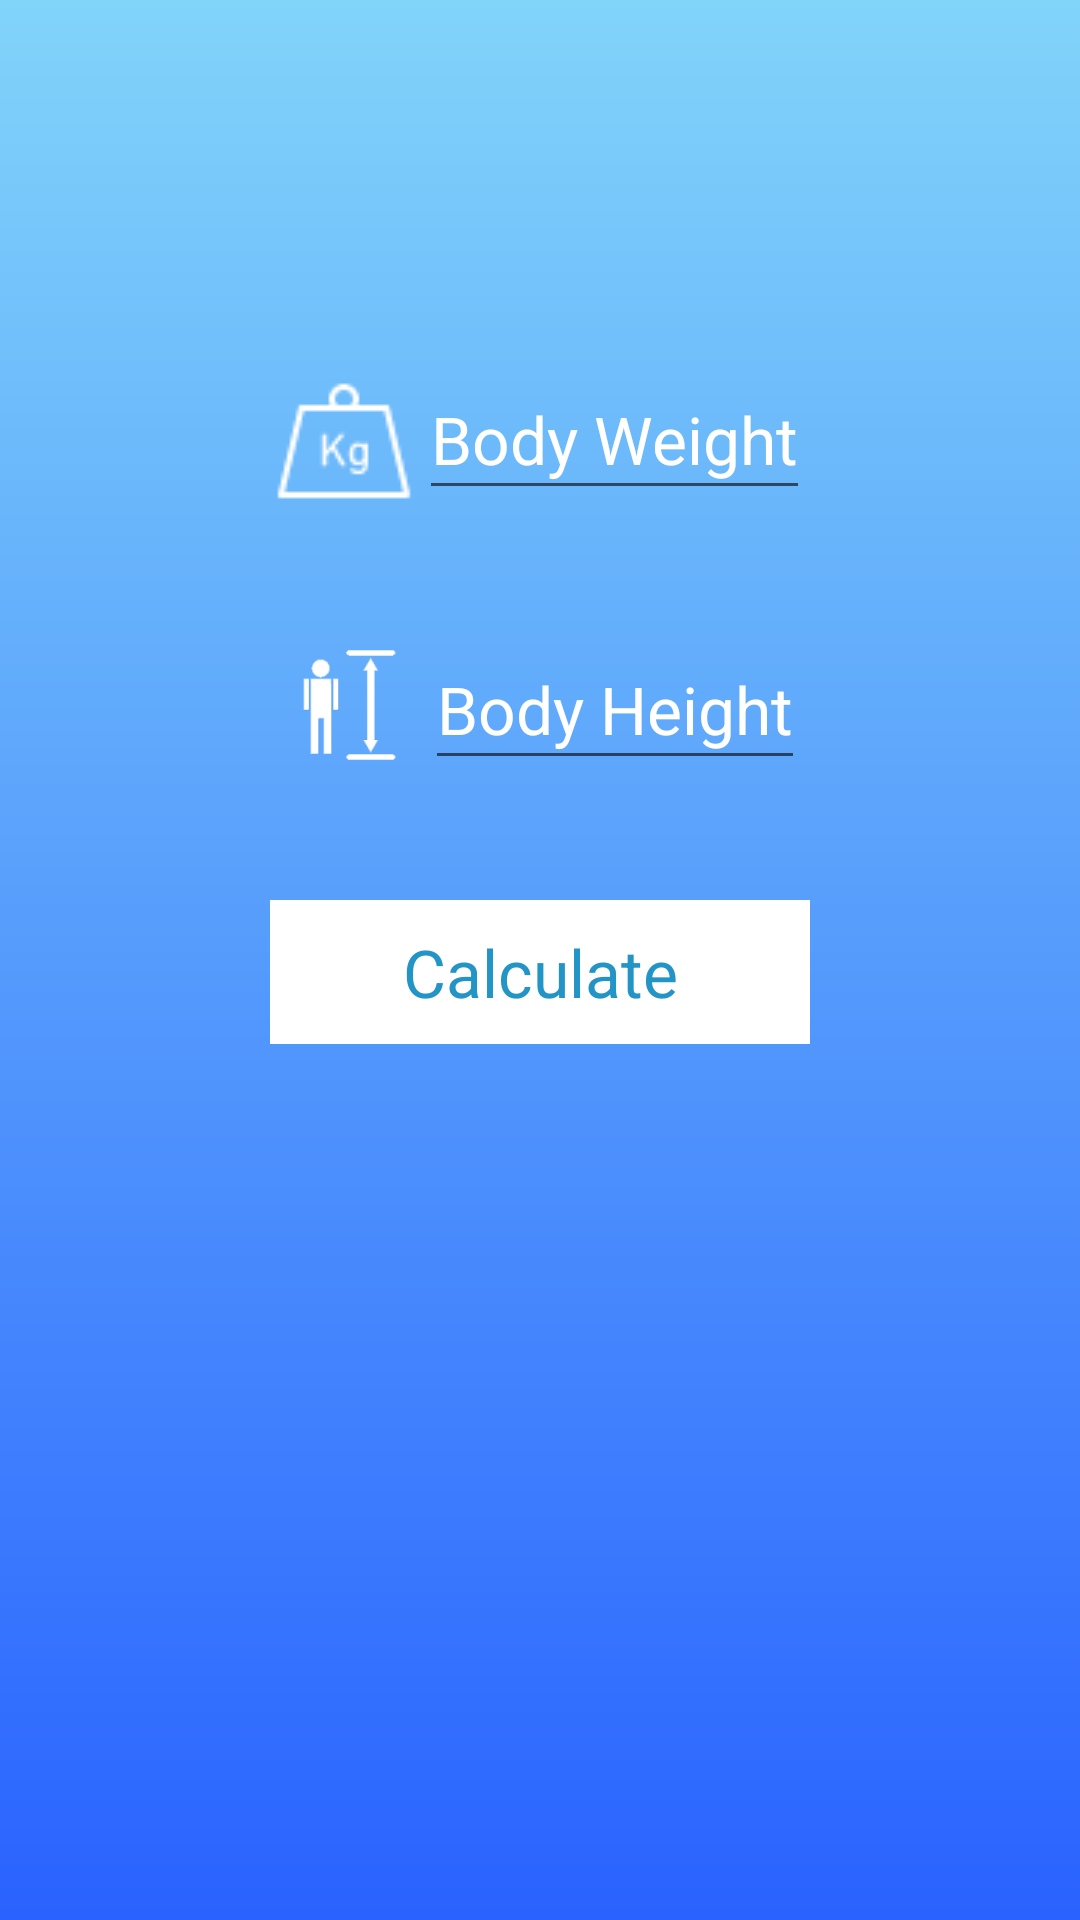

Icon click points for this 1080px×1920px phone screenshot, format (x,y):
heightwhite: (349,705)
scalewhite: (344,441)
